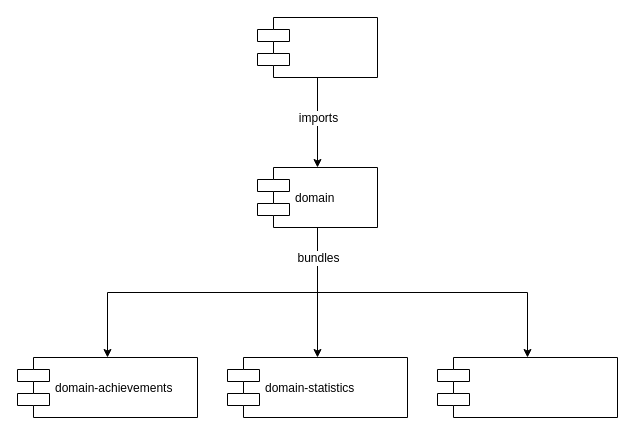
This 635x435 diagram has some shape labels left out. The shapes that lost their labels are listed below. From the top down, each one's centre as x and y in pixels, then its label:
At point (317, 47): "dependent module".
At point (527, 387): "domain-todos".
